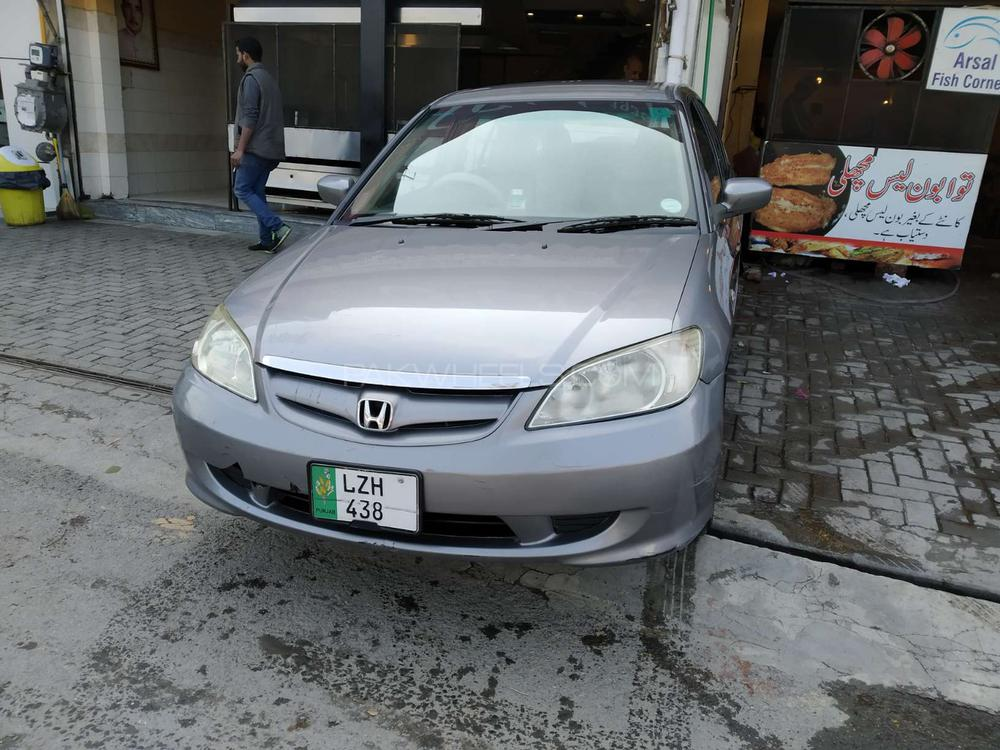plate: (299, 456, 430, 540)
